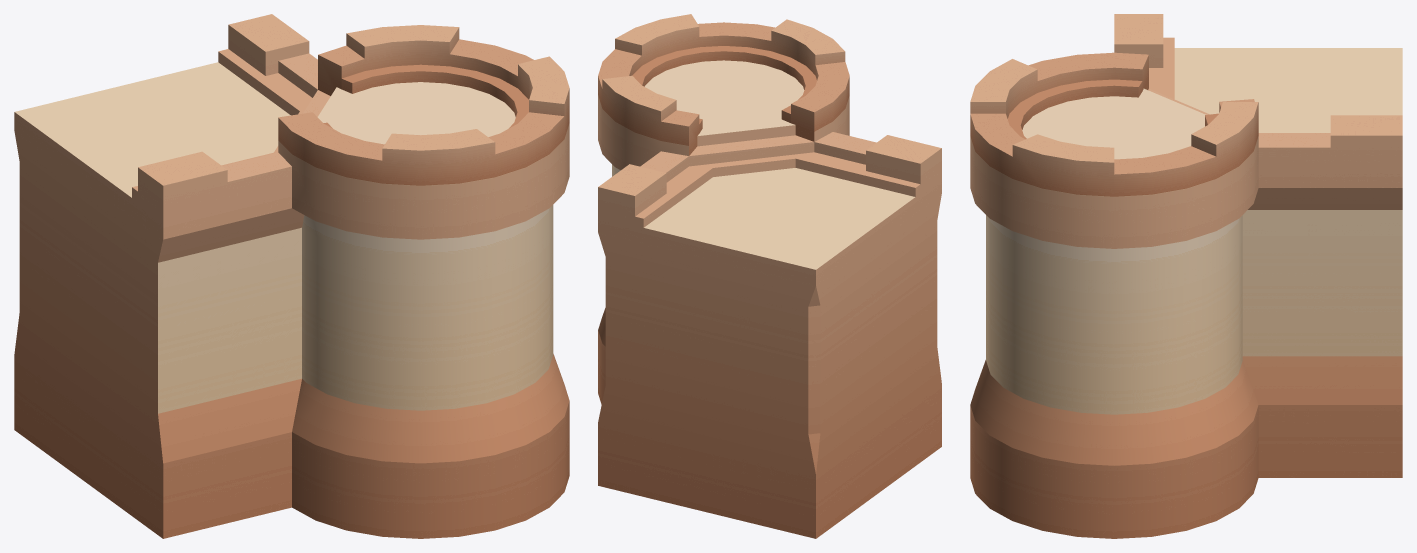
Rendered from wall-corner-half-tower.glb.
3 renders of one model, left to right at view 1: azimuth 30°, elevation 25°; view 2: azimuth 150°, elevation 25°; view 3: azimuth 270°, elevation 25°, orthographic. The views are drawn at different scales.
Parts seen in each view (by area): view 1: wall-corner-half-tower; view 2: wall-corner-half-tower; view 3: wall-corner-half-tower.
Boxes of the visible parts, <box> form: wall-corner-half-tower: <box>14,14,569,538</box>; wall-corner-half-tower: <box>598,14,941,538</box>; wall-corner-half-tower: <box>970,14,1402,538</box>.
Size of the model in its own units: 1.5 by 1.44 by 1.5.
Materials: 1 (1 with a texture image).
